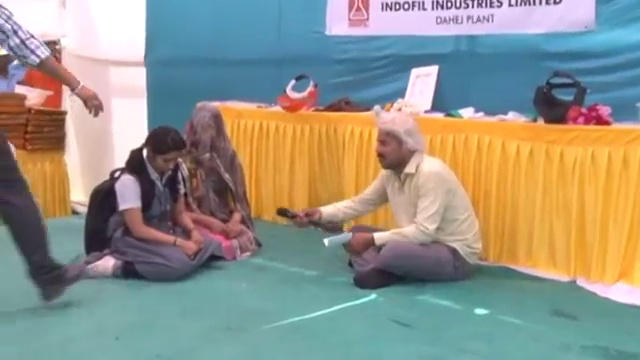helmet: (10, 83, 54, 109)
helmet_off: (362, 114, 427, 176), (182, 105, 229, 167), (141, 124, 186, 183)
person: (301, 110, 486, 288), (0, 6, 110, 304), (77, 121, 213, 283), (169, 105, 260, 265), (23, 33, 66, 113)
